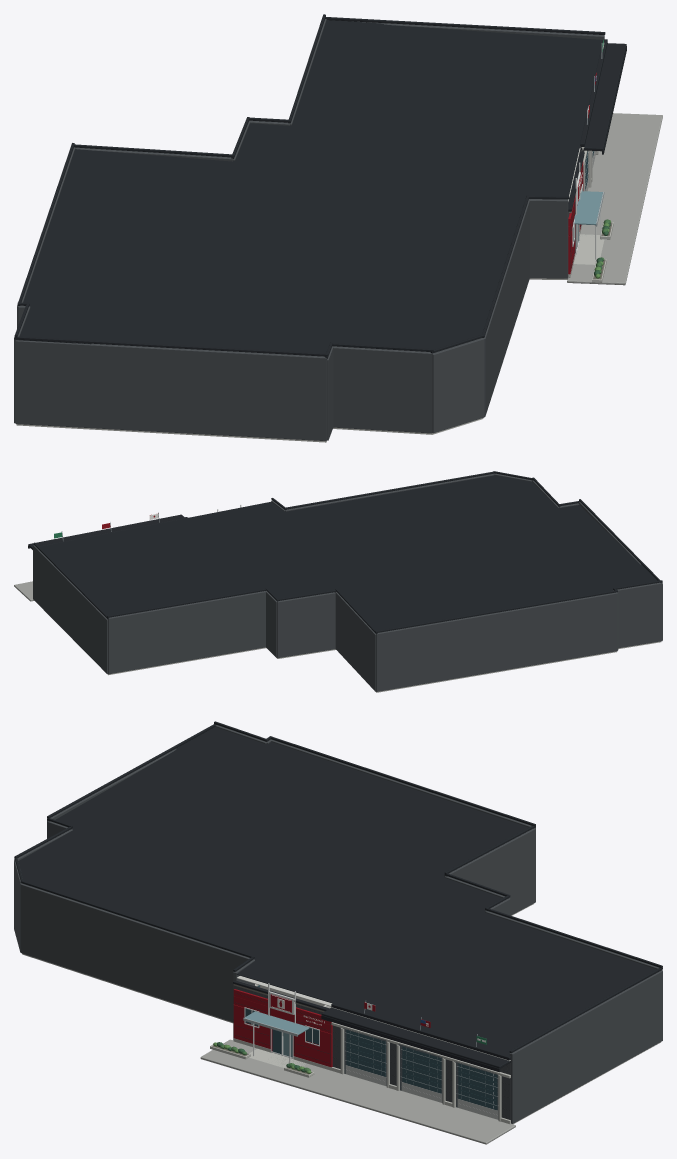
File: station-3.glb
The picture shows the model from 3 angles, top to bottom: view 1: azimuth 30°, elevation 25°; view 2: azimuth 150°, elevation 25°; view 3: azimuth 270°, elevation 25°; orthographic projection. The views are drawn at different scales.
Parts seen in each view (by area): view 1: Station3_Static_dark_charcoal_canopy_and_roof, Station3_Static_charcoal_brick, Station3_ConcreteApron, Station3_Static_precast_edge, Station3_MappedFootprintFloor, Station3_Static_cool_glass_reflections; view 2: Station3_Static_dark_charcoal_canopy_and_roof, Station3_Static_charcoal_brick, Station3_MappedFootprintFloor; view 3: Station3_Static_dark_charcoal_canopy_and_roof, Station3_Static_charcoal_brick, Station3_ConcreteApron, Station3_Static_enamel_red_cladding, Station3_Static_precast_edge, Station3_Door_01, Station3_Door_03, Station3_Door_02, Station3_Static_cool_glass_reflections, Station3_Static_white_aluminum_frames, Station3_MappedFootprintFloor.
Part boxes in pixels (left/top/right/bottom): Station3_Static_dark_charcoal_canopy_and_roof: left=14, top=14, right=626, bottom=358; Station3_Static_charcoal_brick: left=14, top=19, right=604, bottom=440; Station3_ConcreteApron: left=567, top=113, right=662, bottom=285; Station3_Static_precast_edge: left=568, top=147, right=613, bottom=282; Station3_MappedFootprintFloor: left=16, top=278, right=567, bottom=442; Station3_Static_cool_glass_reflections: left=573, top=191, right=602, bottom=242; Station3_Static_dark_charcoal_canopy_and_roof: left=28, top=471, right=662, bottom=633; Station3_Static_charcoal_brick: left=33, top=473, right=662, bottom=691; Station3_MappedFootprintFloor: left=107, top=641, right=661, bottom=692; Station3_Static_dark_charcoal_canopy_and_roof: left=14, top=721, right=662, bottom=1072; Station3_Static_charcoal_brick: left=14, top=725, right=662, bottom=1123; Station3_ConcreteApron: left=200, top=1039, right=515, bottom=1144; Station3_Static_enamel_red_cladding: left=233, top=989, right=430, bottom=1067; Station3_Static_precast_edge: left=210, top=984, right=510, bottom=1124; Station3_Door_01: left=344, top=1029, right=386, bottom=1086; Station3_Door_03: left=456, top=1062, right=498, bottom=1119; Station3_Door_02: left=400, top=1046, right=442, bottom=1102; Station3_Static_cool_glass_reflections: left=244, top=1011, right=309, bottom=1057; Station3_Static_white_aluminum_frames: left=244, top=983, right=319, bottom=1063; Station3_MappedFootprintFloor: left=22, top=903, right=660, bottom=1124.
Size of the model in its own units: 67.67 by 7.58 by 54.01.
